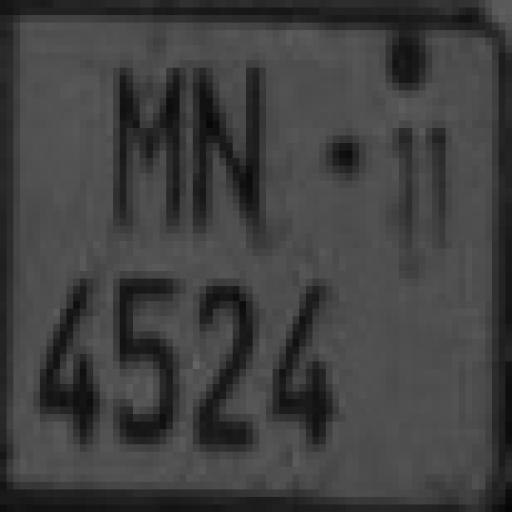2: (189, 279, 262, 450)
4: (266, 272, 347, 459), (40, 266, 104, 458)
5: (114, 264, 182, 461)
M: (108, 62, 181, 240)
N: (186, 58, 272, 239)
